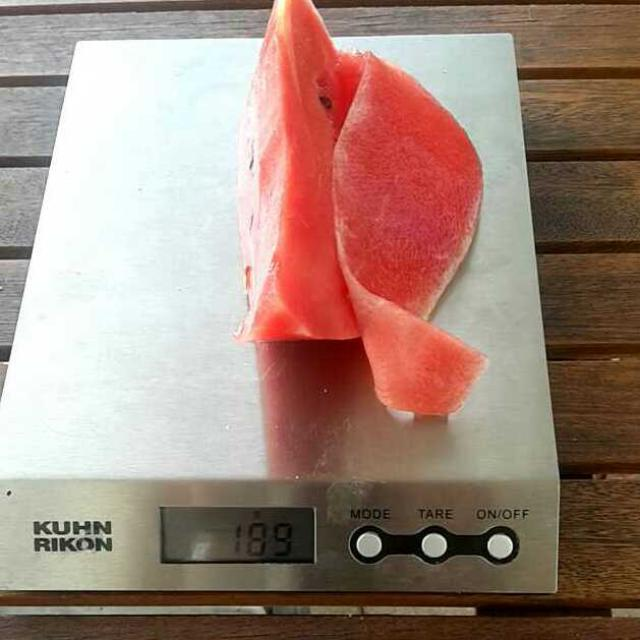watermelon-fresh: (239, 9, 481, 420)
